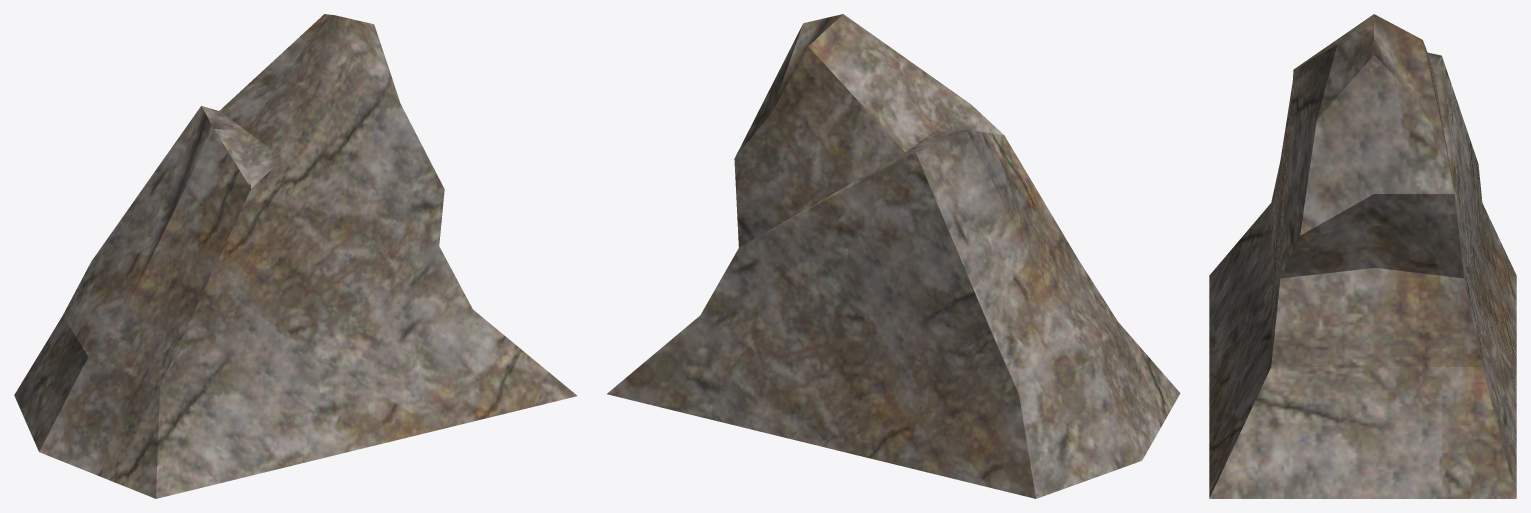
The model's file is RckS05.glb.
3 views of the same model, side by side, from view 1: azimuth 30°, elevation 25°; view 2: azimuth 150°, elevation 25°; view 3: azimuth 270°, elevation 25° (orthographic). The views are drawn at different scales.
Parts seen in each view (by area): view 1: _RckS05; view 2: _RckS05; view 3: _RckS05.
Boxes of the visible parts, <box> form: _RckS05: <box>14,14,577,498</box>; _RckS05: <box>607,14,1180,498</box>; _RckS05: <box>1209,14,1516,498</box>.
Bounding box in the file's own units: 7.17 × 5.43 × 3.82.
1 material, 1 textured.
